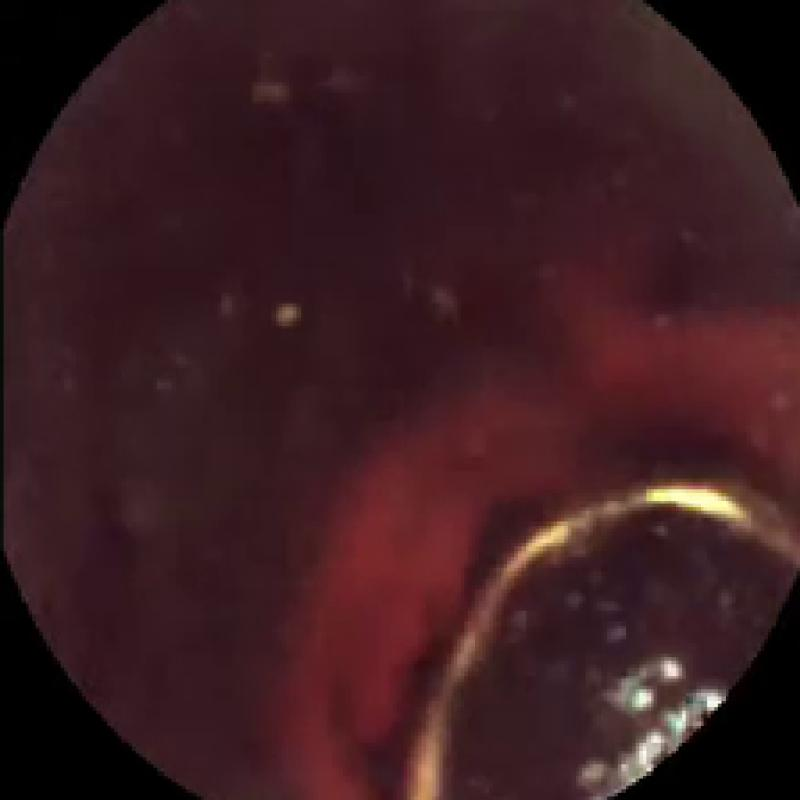bleeding: (264, 303, 799, 800)
